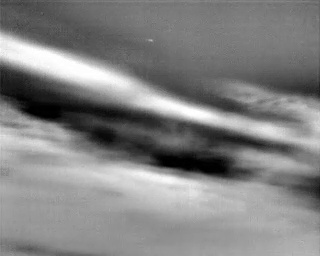BIRD: (146, 36, 155, 45)
